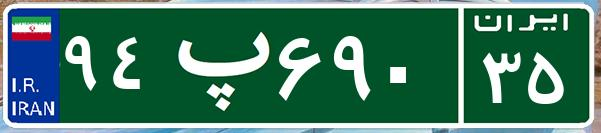0: (385, 28, 445, 110)
3: (475, 38, 525, 113)
4: (110, 28, 158, 105)
5: (525, 38, 570, 115)
6: (273, 28, 330, 110)
9: (330, 28, 385, 110), (57, 26, 110, 107)
پ: (158, 15, 273, 115)
